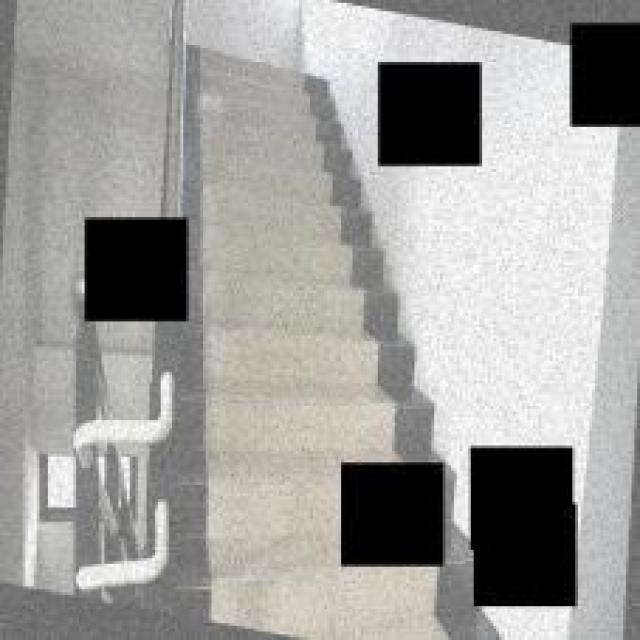upstair: (201, 145, 365, 407)
